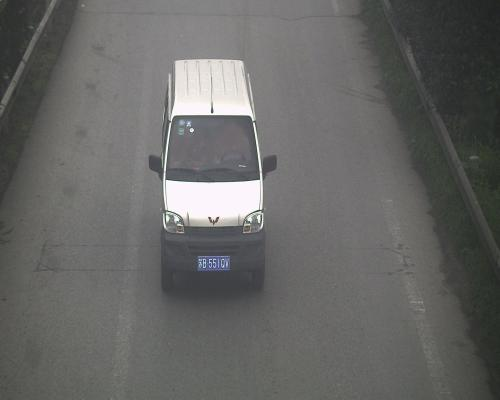Carplate: (193, 252, 236, 278)
